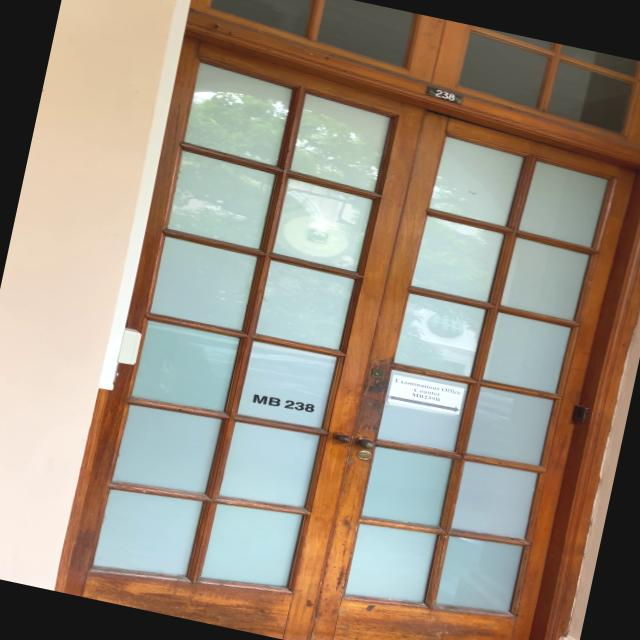room238: (423, 82, 462, 104)
